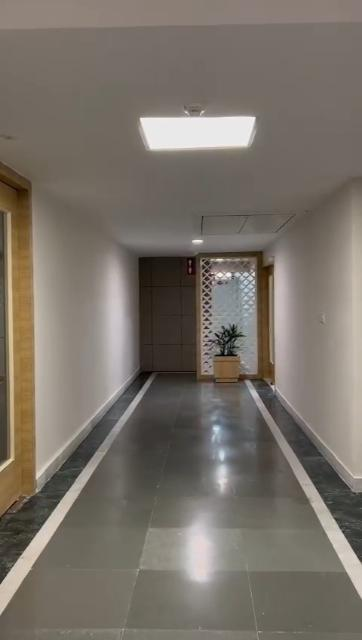door: (0, 164, 34, 502), (258, 270, 276, 380)
floor: (0, 374, 362, 640)
object: (207, 326, 245, 386)
wall: (270, 175, 362, 473), (43, 190, 136, 470)
